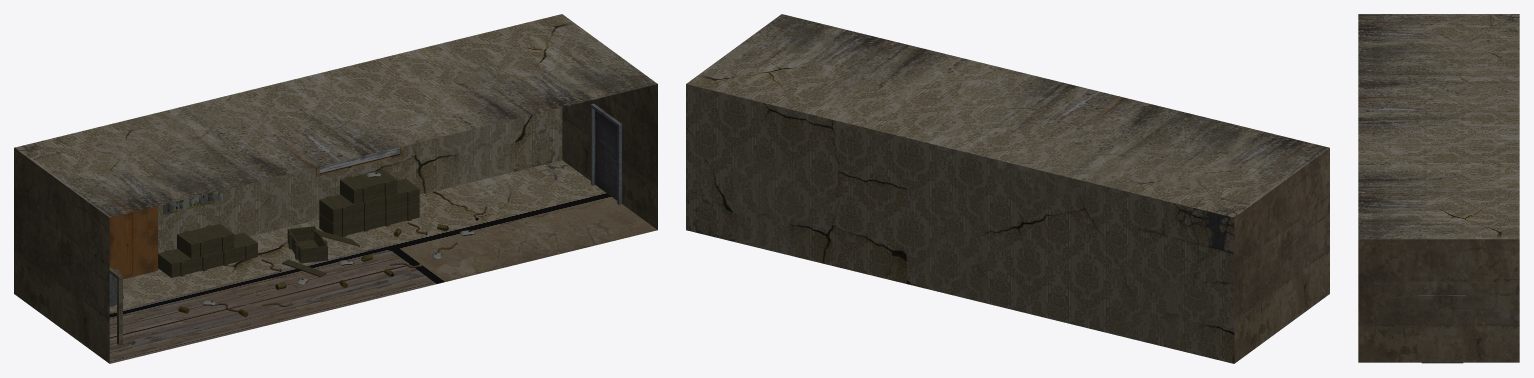
File: Scense4.FBX
3 views of the same model, side by side, from view 1: azimuth 30°, elevation 25°; view 2: azimuth 150°, elevation 25°; view 3: azimuth 270°, elevation 25° (orthographic). The views are drawn at different scales.
Parts seen in each view (by area): view 1: Scense4, 9shik, Placat and Shkaf, Protivogazi, Lampa and Stoika; view 2: Scense4; view 3: Scense4.
Part boxes in pixels (left/top/right/bottom): Scense4: left=14, top=14, right=657, bottom=363; 9shik: left=158, top=169, right=419, bottom=277; Placat and Shkaf: left=109, top=103, right=621, bottom=279; Protivogazi: left=178, top=172, right=487, bottom=317; Lampa and Stoika: left=109, top=266, right=135, bottom=350; Scense4: left=686, top=14, right=1329, bottom=363; Scense4: left=1358, top=14, right=1519, bottom=362.
Bounding box in the file's own units: 76.3 × 19.51 × 22.99.
Materials: 6 (6 with a texture image).
